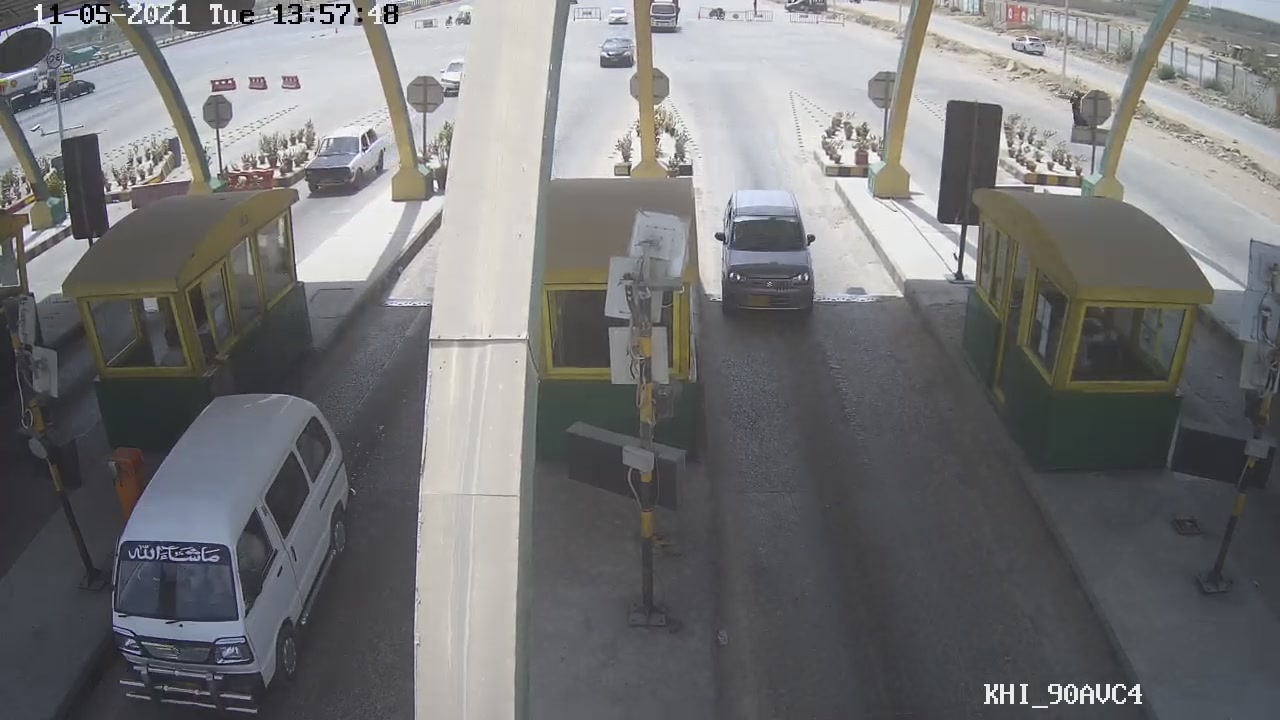F1: (708, 184, 829, 318)
